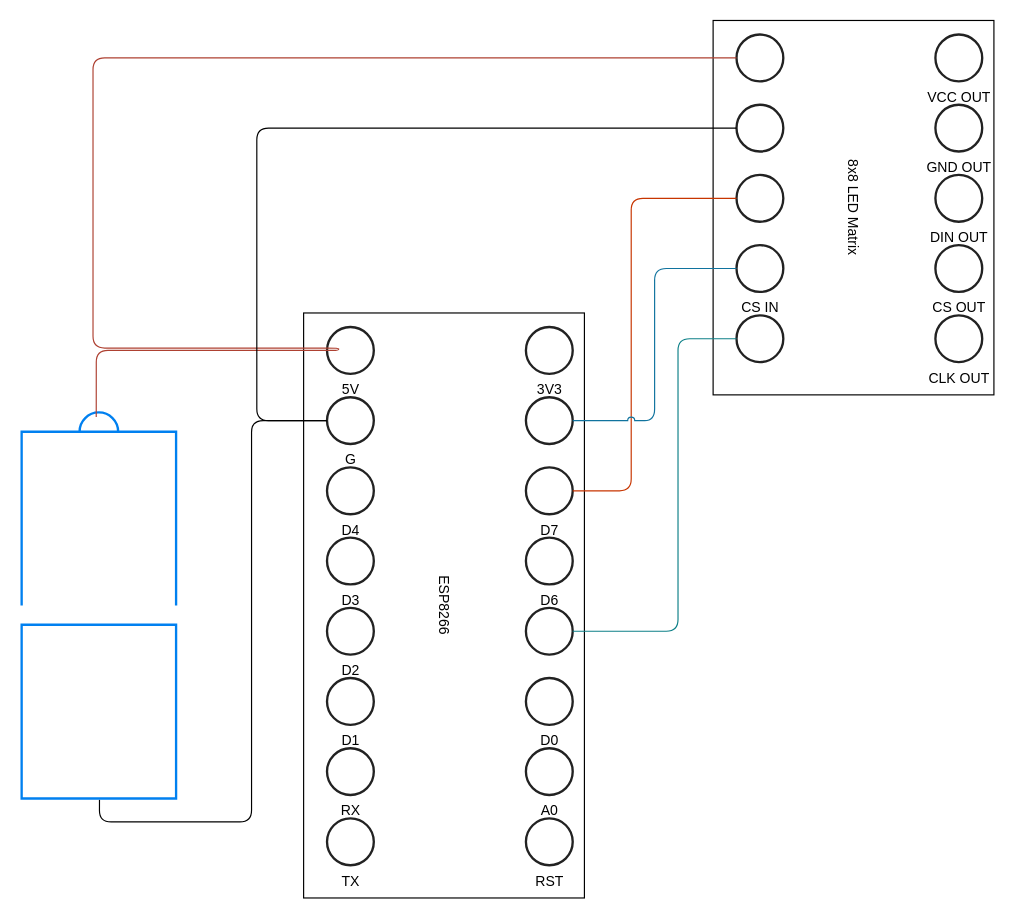
This 1014x918 diagram has some shape labels left out. Here are the shapes that lost their labels. From the top down, the centre of each, then its label:
point (759, 57): VCC IN
point (759, 127): GND IN
point (759, 197): DIN IN
point (759, 338): CLK IN
point (548, 420): D8
point (98, 605): 5V Power
point (548, 630): D5
